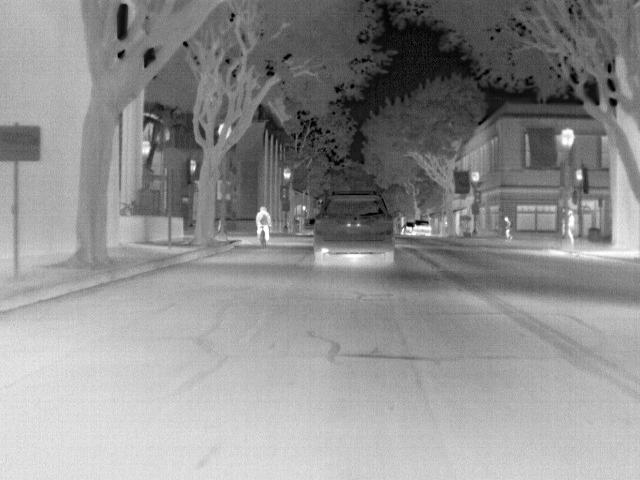car: (312, 190, 395, 264), (412, 220, 433, 236), (402, 222, 415, 236)
person: (563, 208, 580, 248), (255, 203, 271, 241), (500, 214, 514, 241)
